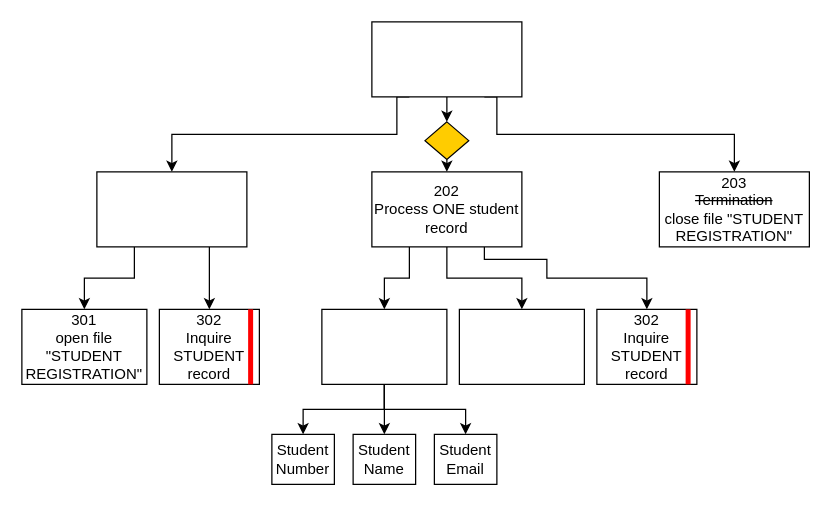
Image size: 831x506. Some labels were removed from this diagram. Here are the shapes that lost their labels. From the top down, the centre of each, then its label:
(x=446, y=59): 100 Create file "STUDENT REGISTRATION"
(x=171, y=209): 201 Initialization
(x=384, y=346): 303 get "STUDENT REGISTRATION" fields
(x=521, y=346): 304 write "STUDENT REGISTRATION" fields
